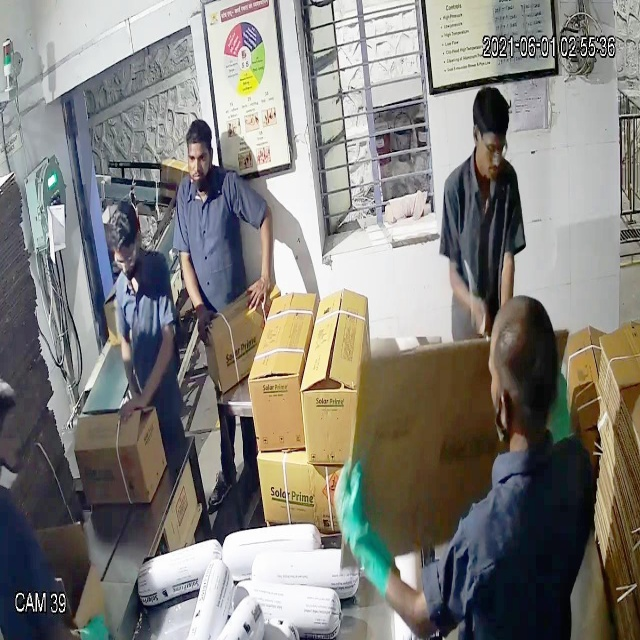Gafas: (112, 242, 143, 276)
